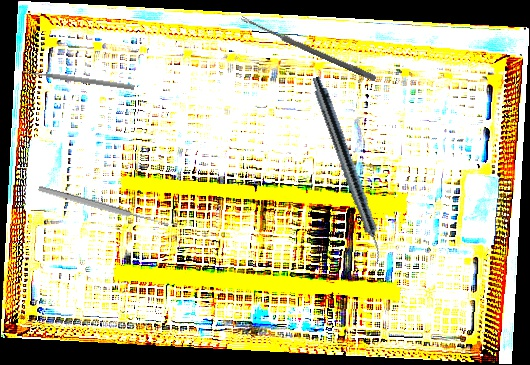Handpiece: (306, 74, 390, 266)
Pusher: (21, 68, 135, 91)
Surgical Spoon: (239, 15, 378, 82), (37, 184, 170, 230)
